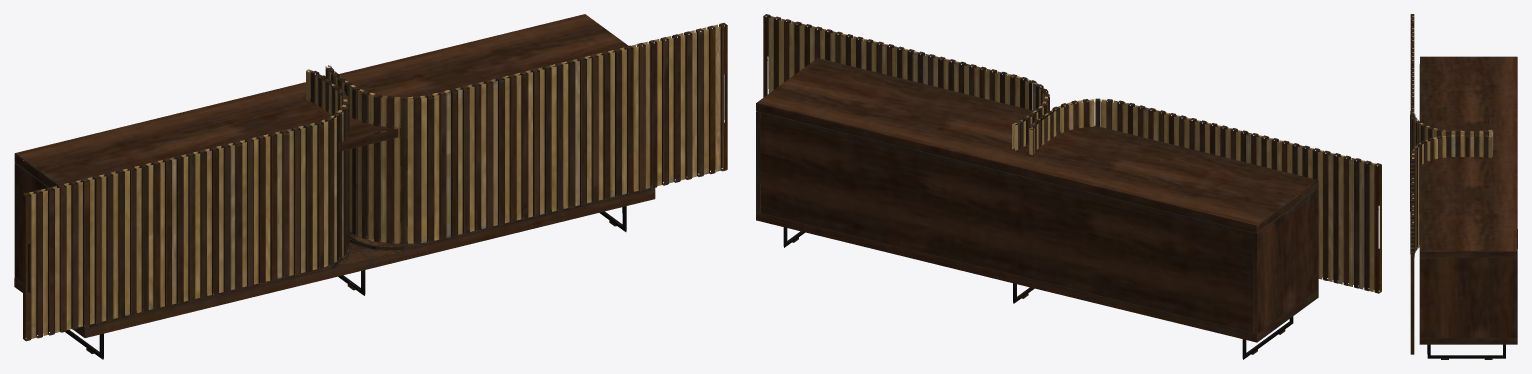
Rendered from modern_wooden_cabinet.glb.
The picture shows the model from 3 angles, left to right: view 1: azimuth 30°, elevation 25°; view 2: azimuth 150°, elevation 25°; view 3: azimuth 270°, elevation 25°; orthographic projection. The views are drawn at different scales.
Parts seen in each view (by area): view 1: modern_wooden_cabinet_door_r, modern_wooden_cabinet_door_l, modern_wooden_cabinet_body; view 2: modern_wooden_cabinet_body, modern_wooden_cabinet_door_l, modern_wooden_cabinet_door_r; view 3: modern_wooden_cabinet_body, modern_wooden_cabinet_door_r, modern_wooden_cabinet_door_l.
Boxes of the visible parts, bbox=[...] form: modern_wooden_cabinet_door_r: bbox=[325, 23, 727, 244]; modern_wooden_cabinet_door_l: bbox=[23, 69, 349, 341]; modern_wooden_cabinet_body: bbox=[14, 14, 655, 359]; modern_wooden_cabinet_body: bbox=[756, 58, 1318, 359]; modern_wooden_cabinet_door_l: bbox=[1029, 98, 1381, 293]; modern_wooden_cabinet_door_r: bbox=[763, 14, 1049, 150]; modern_wooden_cabinet_body: bbox=[1419, 56, 1517, 359]; modern_wooden_cabinet_door_r: bbox=[1410, 134, 1492, 354]; modern_wooden_cabinet_door_l: bbox=[1410, 14, 1493, 211].
Size of the model in its own units: 3 by 0.8002 by 0.5705.
1 material, 1 textured.
